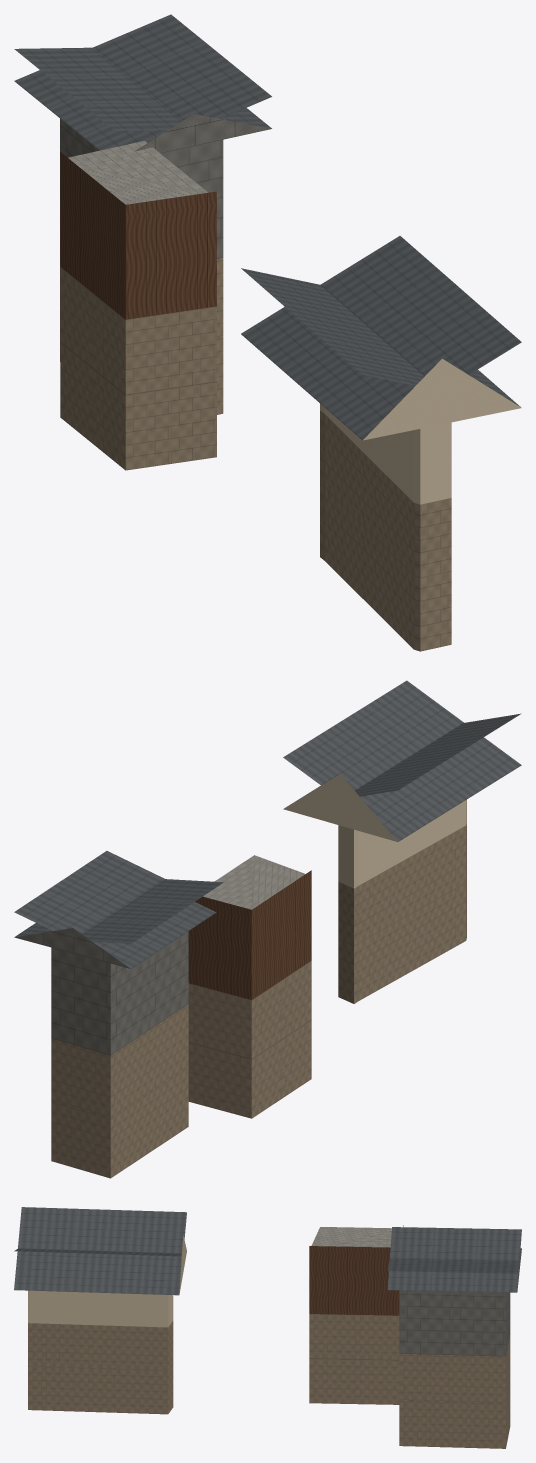
Rendered from bld_c31_-23_539.gltf.
3 views of the same model, one above another, from view 1: azimuth 30°, elevation 25°; view 2: azimuth 150°, elevation 25°; view 3: azimuth 270°, elevation 25° (orthographic). The views are drawn at different scales.
Parts seen in each view (by area): view 1: bld_c31_-23_539; view 2: bld_c31_-23_539; view 3: bld_c31_-23_539.
Part boxes in pixels (x1,y1,x2,y2): bld_c31_-23_539: (14, 14, 521, 651); bld_c31_-23_539: (14, 680, 521, 1178); bld_c31_-23_539: (14, 1207, 521, 1448).
Size of the model in its own units: 7.41 by 9.85 by 24.24.
Materials: 9 (9 with a texture image).
